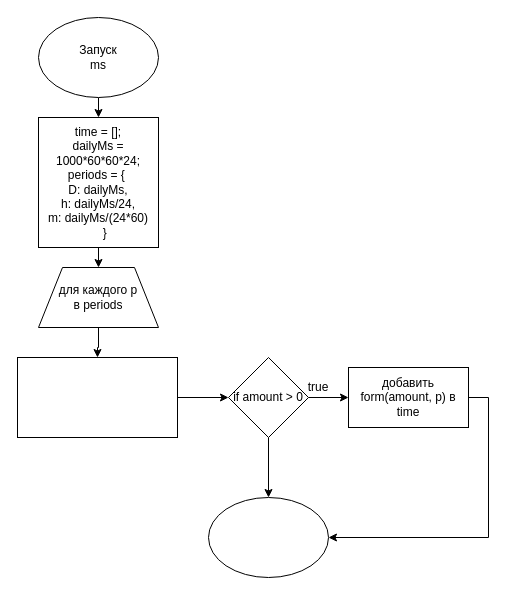
Some shapes in this 514 by 595 pixel diagram are drawn without their labels. Each missing label, with the box of its shape:
amount =floor(ms/periods[p]) ms -= amount*periods[p[;: (16, 356, 178, 438)
Возврат time: (208, 496, 328, 578)
